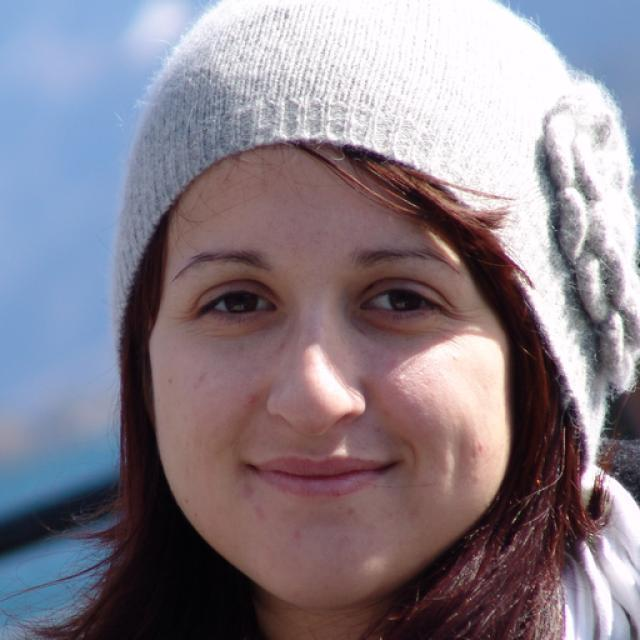happy: (147, 125, 512, 609)
